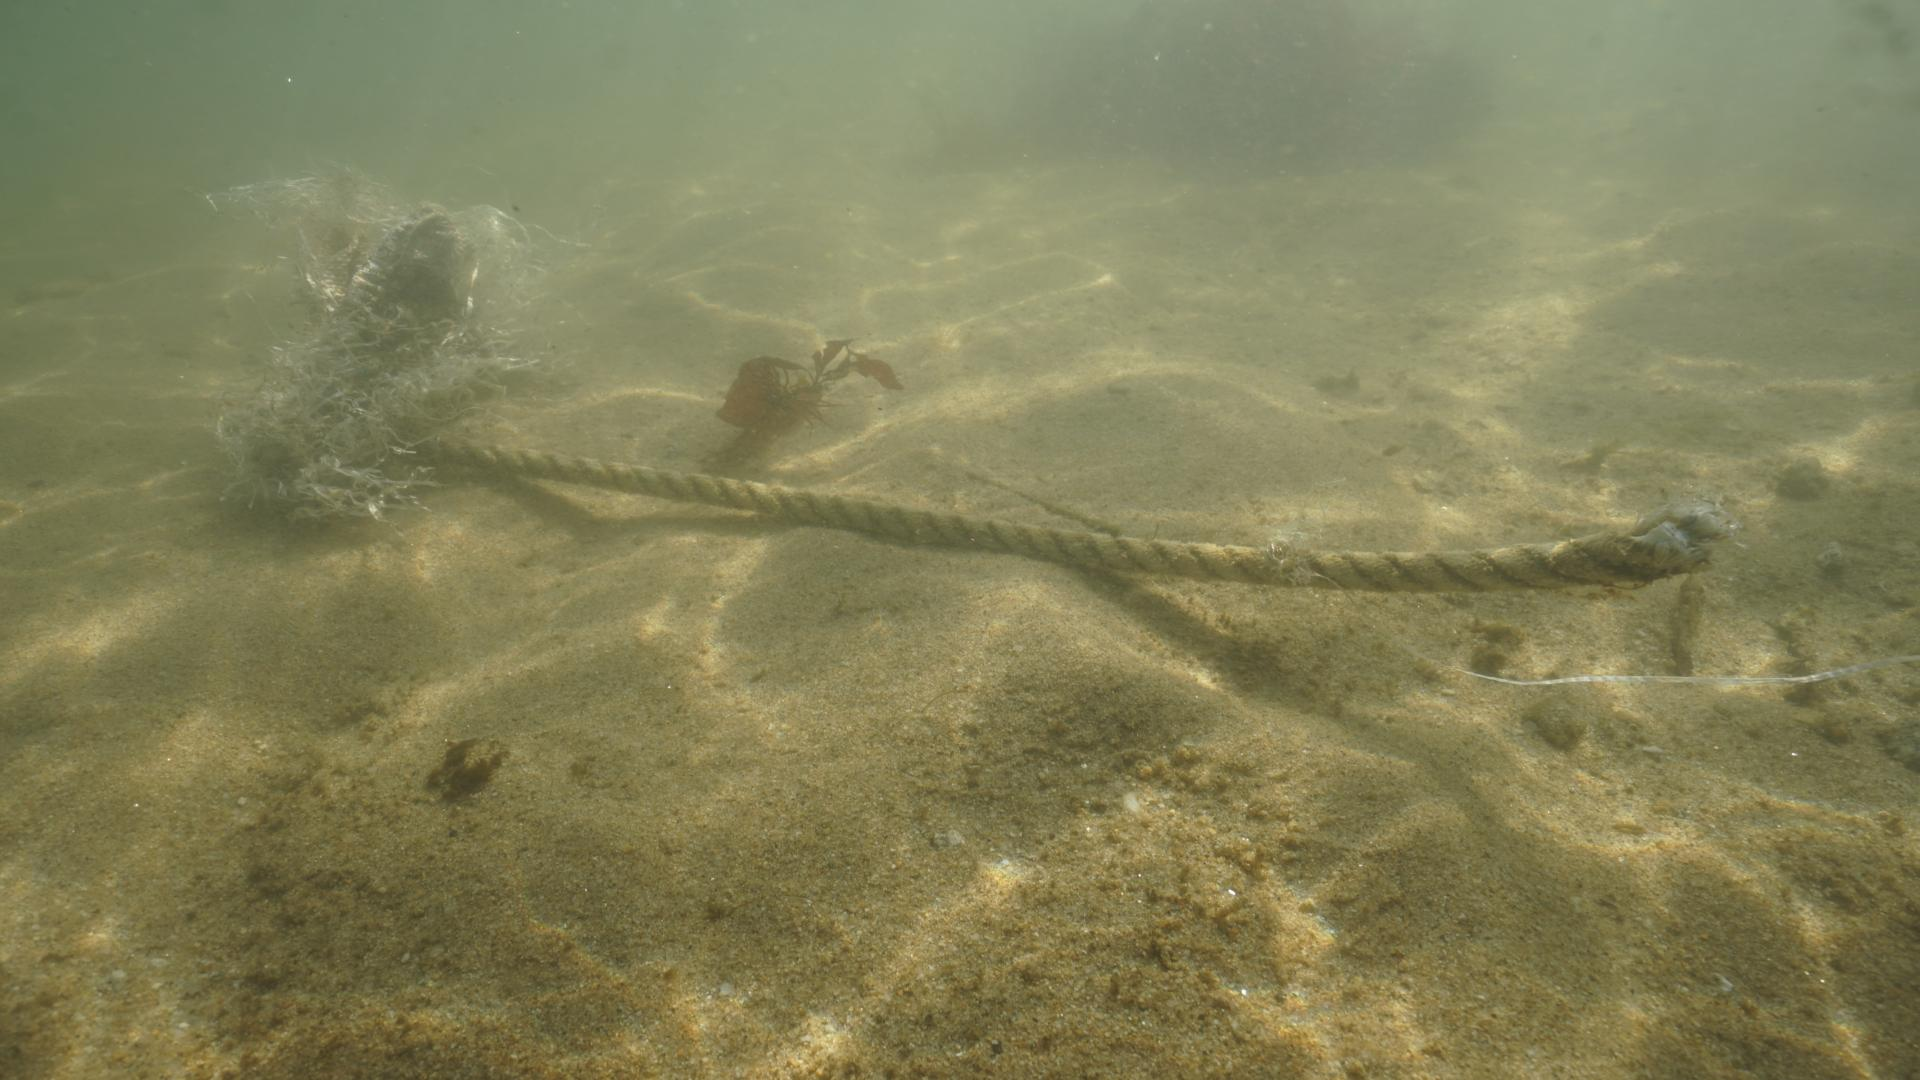rope: (405, 430, 1702, 597)
